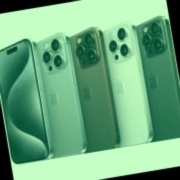iphone: (136, 29, 180, 153)
